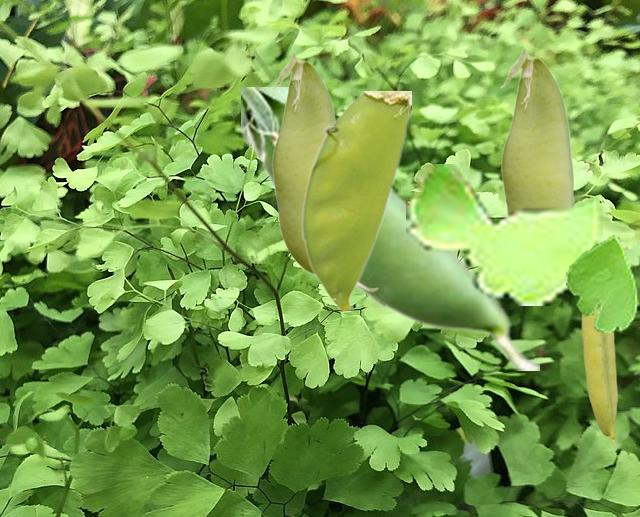pea: (241, 87, 538, 369), (270, 51, 378, 291), (301, 91, 410, 311), (499, 47, 575, 212), (581, 311, 617, 445)
